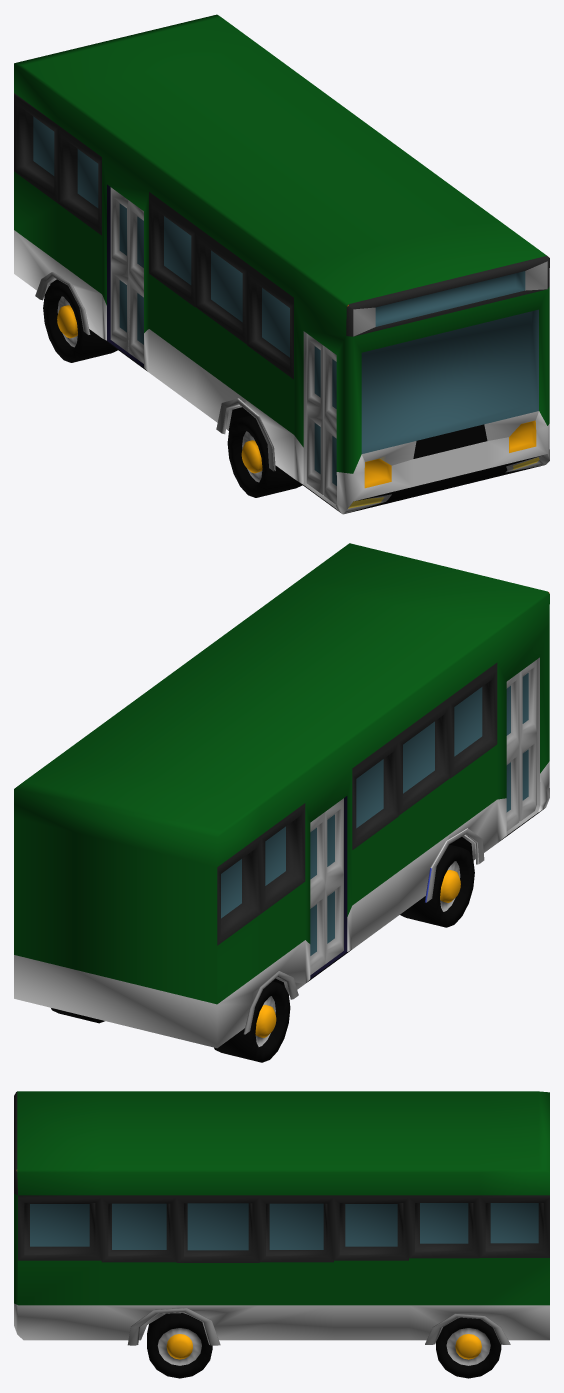
The model's file is Onibus.fbx.
3 views of the same model, one above another, from view 1: azimuth 30°, elevation 25°; view 2: azimuth 150°, elevation 25°; view 3: azimuth 270°, elevation 25° (orthographic). The views are drawn at different scales.
Parts seen in each view (by area): view 1: Onibus; view 2: Onibus; view 3: Onibus.
Part boxes in pixels (left/top/right/bottom): Onibus: left=14, top=14, right=549, bottom=514; Onibus: left=14, top=543, right=549, bottom=1062; Onibus: left=14, top=1091, right=549, bottom=1378.
Bounding box in the file's own units: 287 × 339 × 787.
